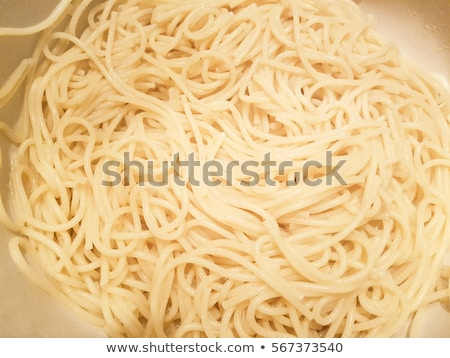plain spaghetti: (109, 215, 385, 324), (109, 48, 409, 145)
